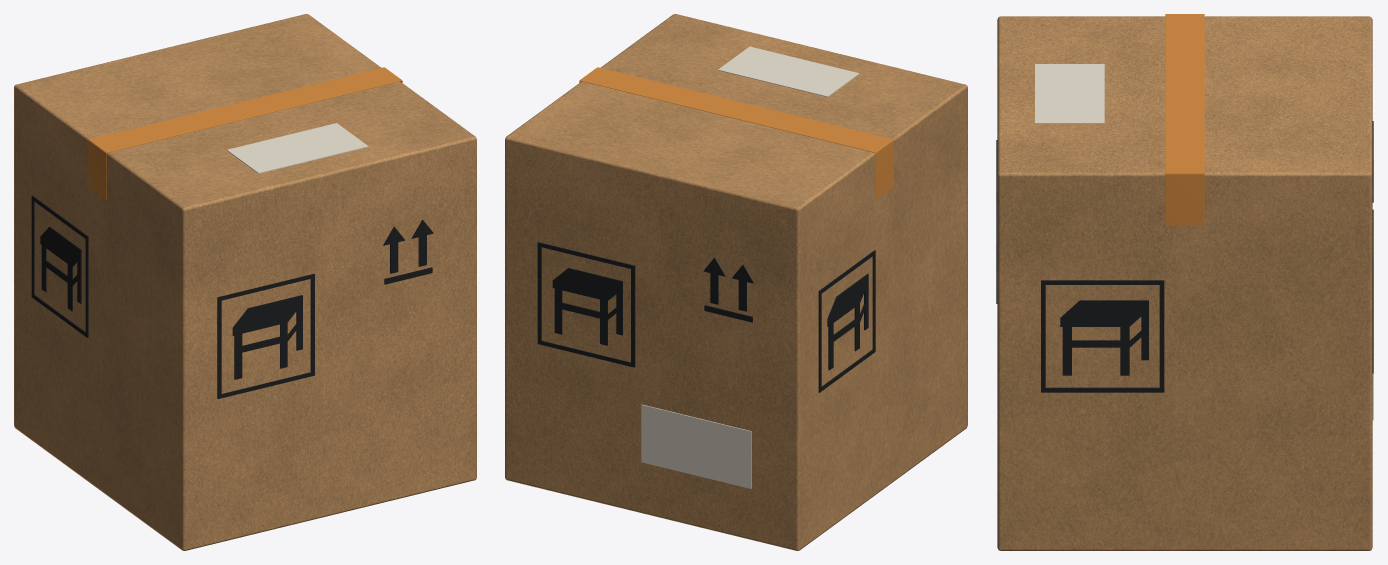
The model's file is Hockerkarton01.fbx.
3 views of the same model, side by side, from view 1: azimuth 30°, elevation 25°; view 2: azimuth 150°, elevation 25°; view 3: azimuth 270°, elevation 25° (orthographic). The views are drawn at different scales.
Parts seen in each view (by area): view 1: Hockerkarton01__Cardboard, Hockerkarton01__Black, Hockerkarton01__SafetyOrange, Hockerkarton01__WallWhite; view 2: Hockerkarton01__Cardboard, Hockerkarton01__WallWhite, Hockerkarton01__Black, Hockerkarton01__SafetyOrange; view 3: Hockerkarton01__Cardboard, Hockerkarton01__SafetyOrange, Hockerkarton01__Black, Hockerkarton01__WallWhite.
Part boxes in pixels (x1,y1,x2,y2): Hockerkarton01__Cardboard: (14,14,476,550); Hockerkarton01__Black: (31,195,433,398); Hockerkarton01__SafetyOrange: (88,67,402,200); Hockerkarton01__WallWhite: (227,123,368,173); Hockerkarton01__Cardboard: (505,14,967,550); Hockerkarton01__WallWhite: (641,46,859,488); Hockerkarton01__Black: (537,242,875,392); Hockerkarton01__SafetyOrange: (579,67,893,200); Hockerkarton01__Cardboard: (997,16,1372,550); Hockerkarton01__SafetyOrange: (1165,14,1204,225); Hockerkarton01__Black: (996,121,1373,392); Hockerkarton01__WallWhite: (1035,64,1373,420).
Size of the model in its own units: 45.9 by 50.92 by 45.9.
Materials: 4 (1 with a texture image).
